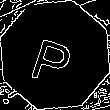P_N: (30, 25, 80, 85)
